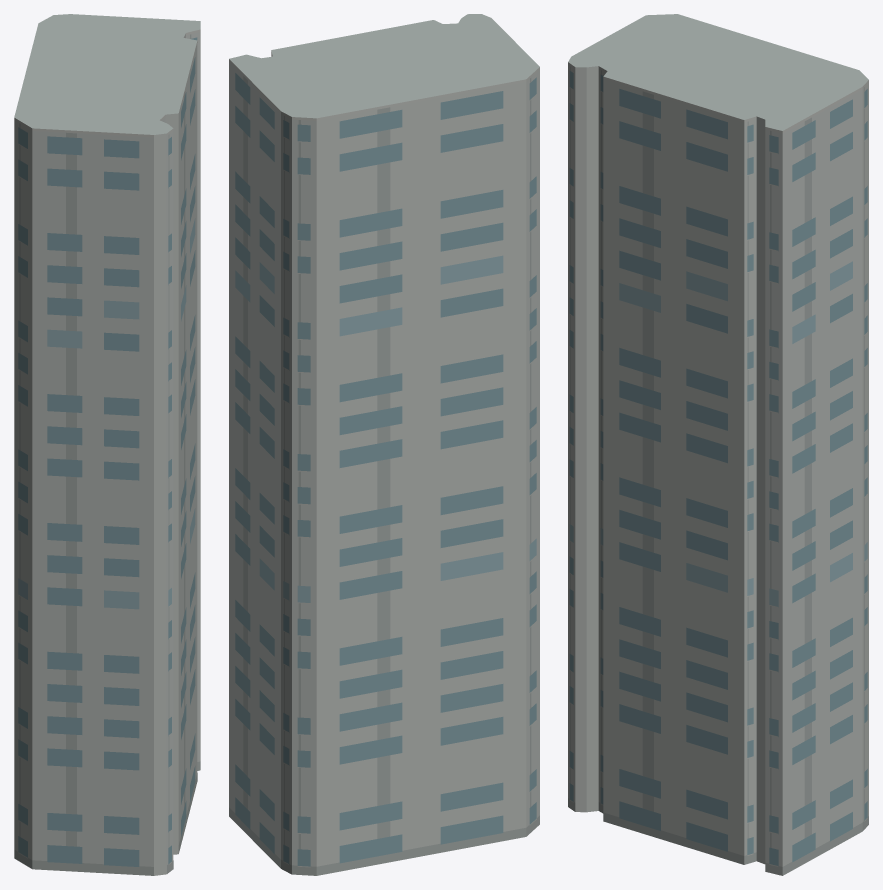
The model's file is survey-upis-32546340.glb.
The picture shows the model from 3 angles, left to right: view 1: azimuth 30°, elevation 25°; view 2: azimuth 150°, elevation 25°; view 3: azimuth 270°, elevation 25°; orthographic projection. The views are drawn at different scales.
Visible parts, largest first — view 1: survey-upis-32546340.tmp; view 2: survey-upis-32546340.tmp; view 3: survey-upis-32546340.tmp.
Boxes of the visible parts, <box> form: survey-upis-32546340.tmp: <box>14,14,200,875</box>; survey-upis-32546340.tmp: <box>229,14,539,875</box>; survey-upis-32546340.tmp: <box>568,14,868,875</box>.
Bounding box in the file's own units: 23.65 × 70.15 × 25.68.
